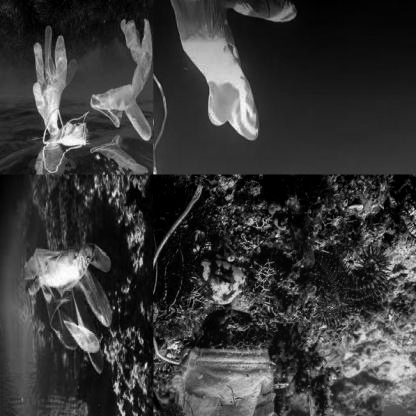Mask: (170, 336, 304, 415), (41, 110, 89, 147), (154, 64, 168, 174)
glove: (172, 0, 300, 139), (22, 239, 112, 375), (91, 16, 153, 140), (32, 26, 77, 134)
